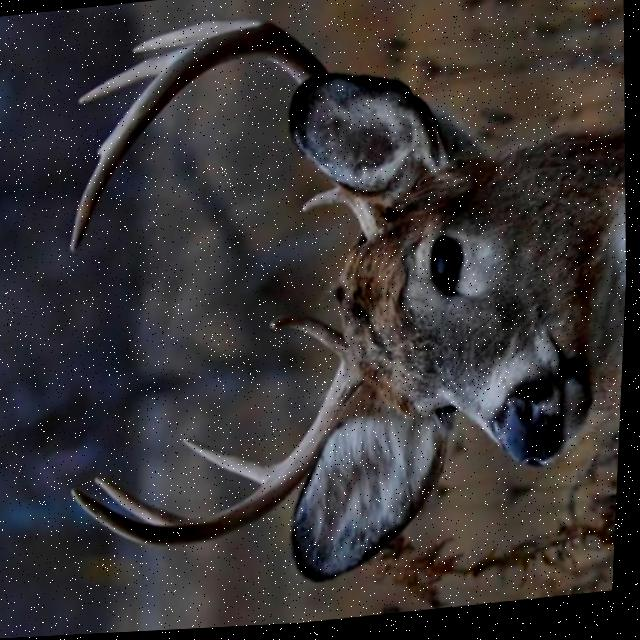L-G1: (302, 192, 347, 216)
R-F: (73, 367, 363, 549)
R-G1: (271, 318, 350, 365)
R-G2: (184, 439, 283, 488)
